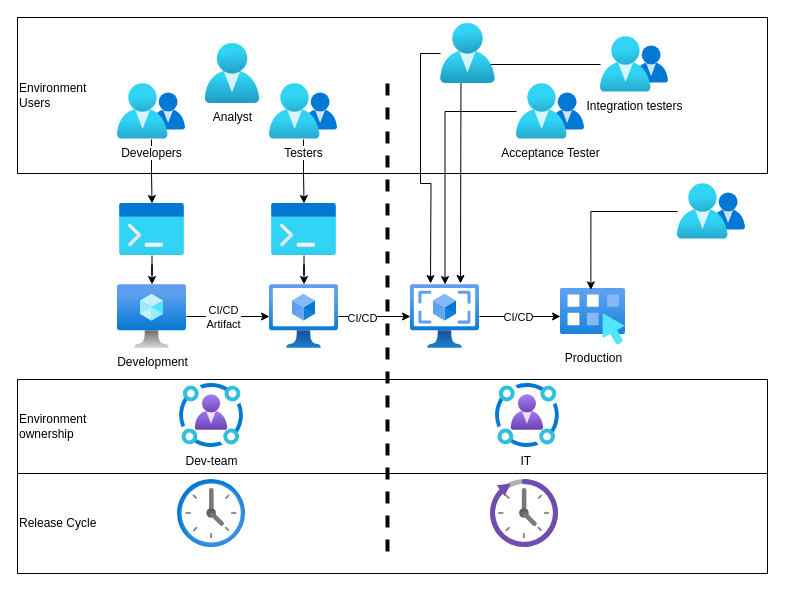
Some shapes in this 785 by 591 pixel diagram are drawn without their labels. Each missing label, with the centre of its shape:
"Acceptance" belongs at [444,316].
"Development Cycle 2 weeks" belongs at [211,513].
"Development Cycle 3 weeks" belongs at [524,513].
"IT support" belongs at [711,211].
"Super-User" belongs at [467,53].
"Test" belongs at [303,316].
